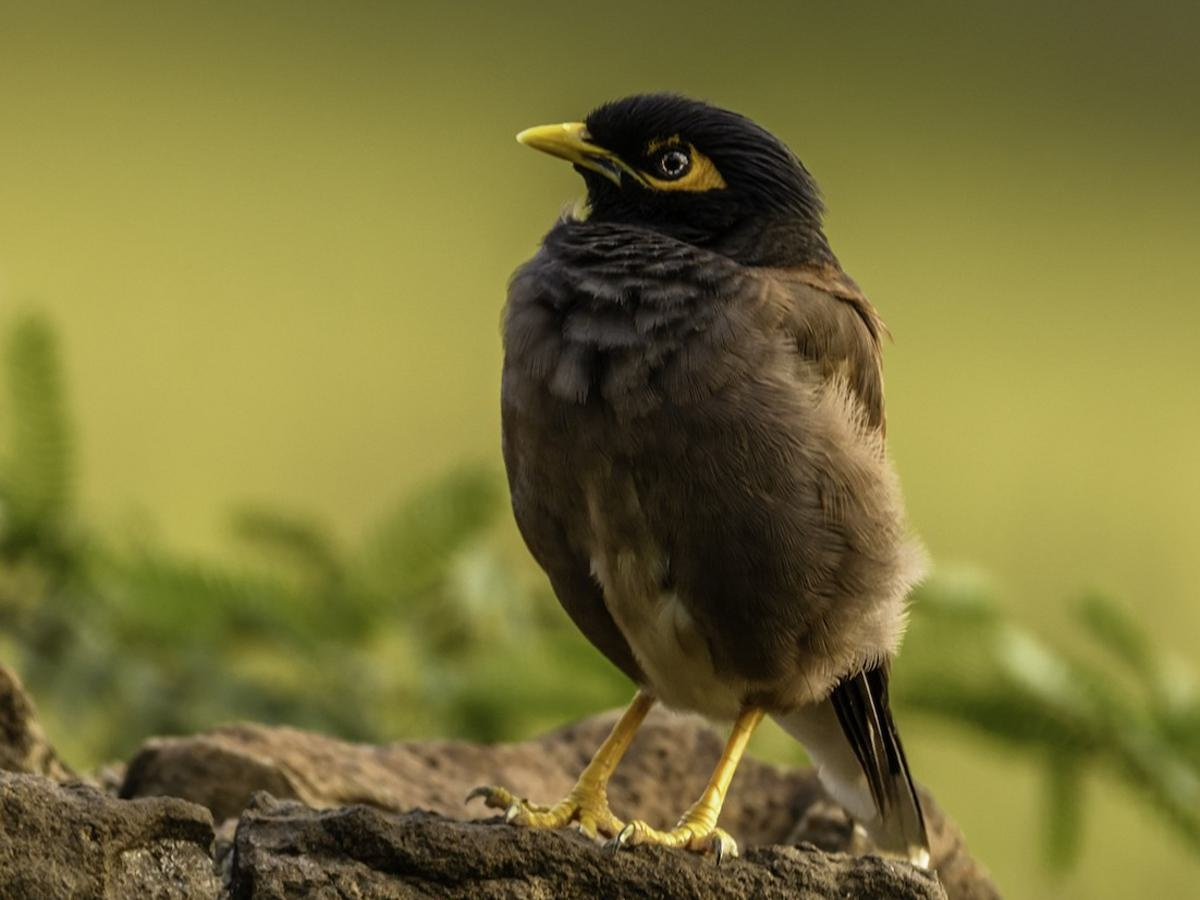myna: (516, 73, 956, 788)
